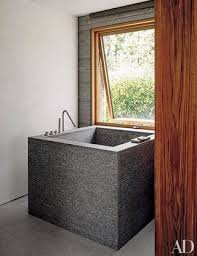bathub: (26, 116, 165, 251)
